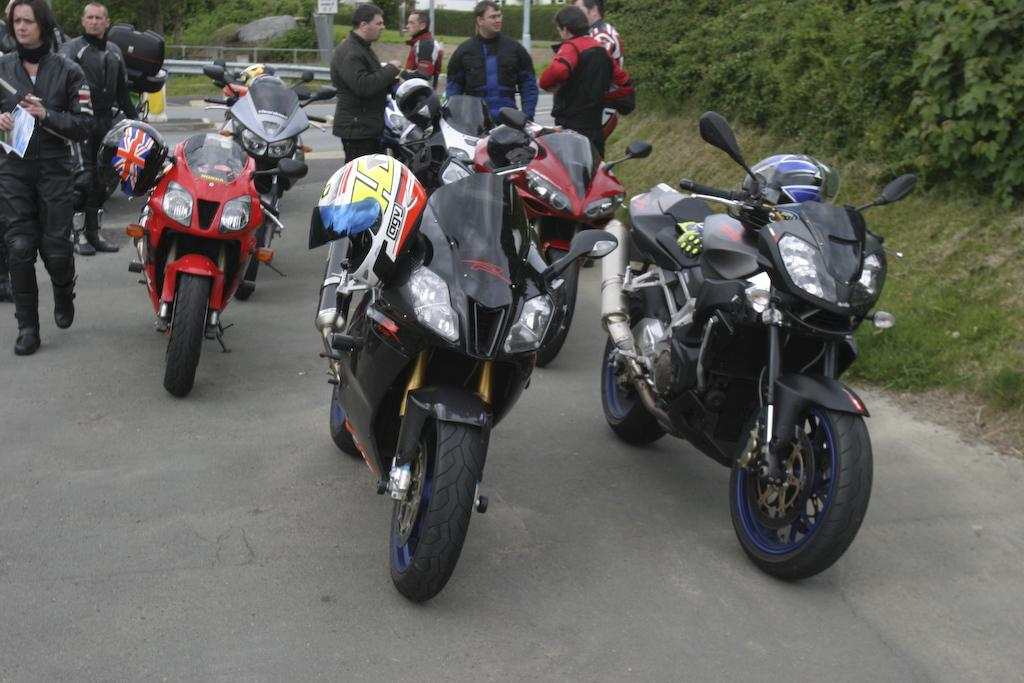helmet: (308, 154, 428, 291), (740, 153, 840, 229), (97, 119, 169, 198), (395, 78, 440, 124), (240, 64, 276, 93)
nohelmet: (10, 0, 53, 50), (351, 4, 385, 44), (554, 5, 590, 42), (473, 0, 503, 37), (81, 2, 110, 39), (405, 11, 431, 39)
